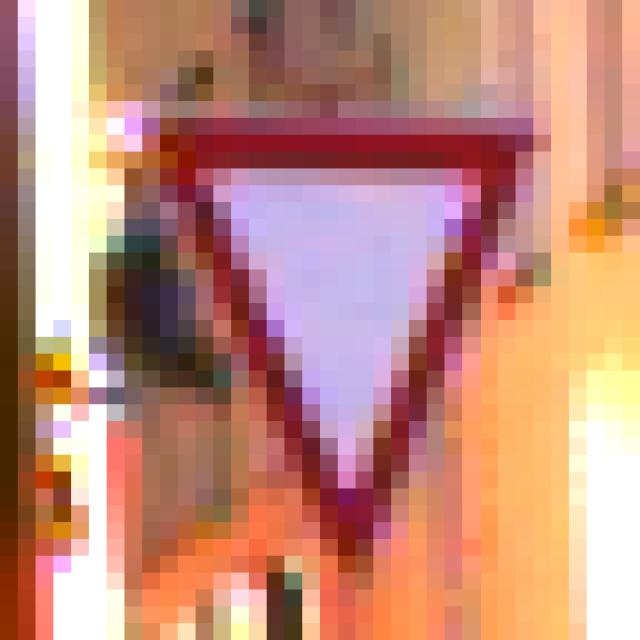Give Way: (108, 85, 534, 557)
